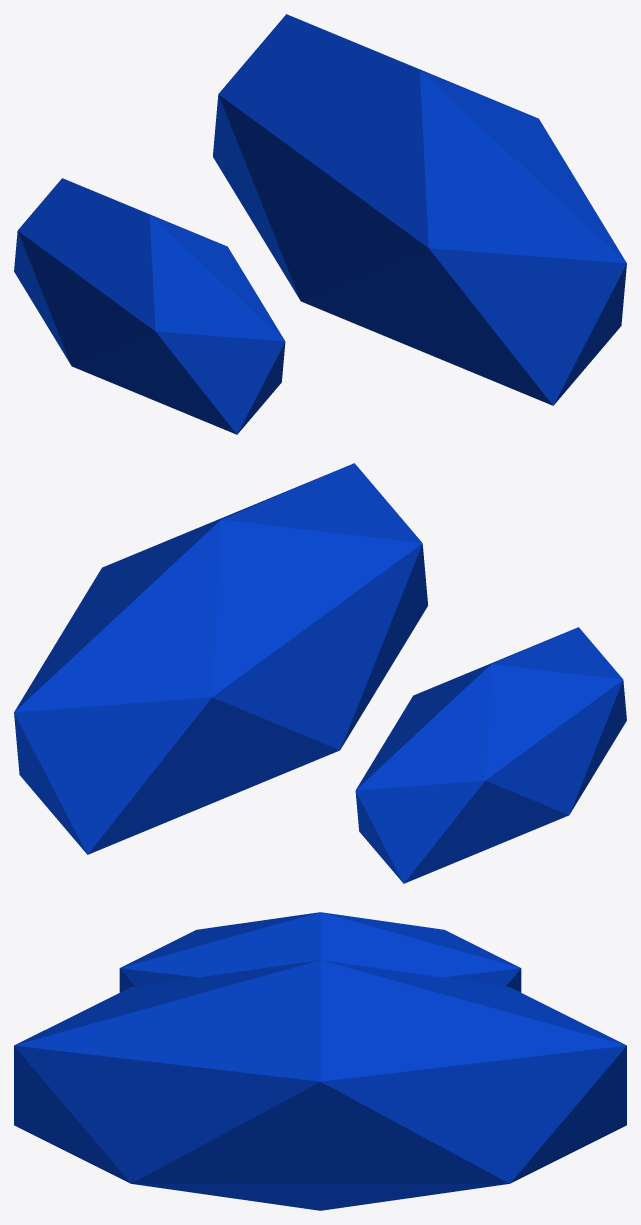
Rendered from whale.obj.
3 views of the same model, one above another, from view 1: azimuth 30°, elevation 25°; view 2: azimuth 150°, elevation 25°; view 3: azimuth 270°, elevation 25° (orthographic). The views are drawn at different scales.
Visible parts, largest first — view 1: Icosphere.001_Icosphere.006; view 2: Icosphere.001_Icosphere.006; view 3: Icosphere.001_Icosphere.006.
Part boxes in pixels (bbox=[...]): Icosphere.001_Icosphere.006: bbox=[14, 14, 626, 434]; Icosphere.001_Icosphere.006: bbox=[14, 463, 626, 883]; Icosphere.001_Icosphere.006: bbox=[14, 912, 626, 1210].
Bounding box in the file's own units: 1.39 × 0.7898 × 1.75.
